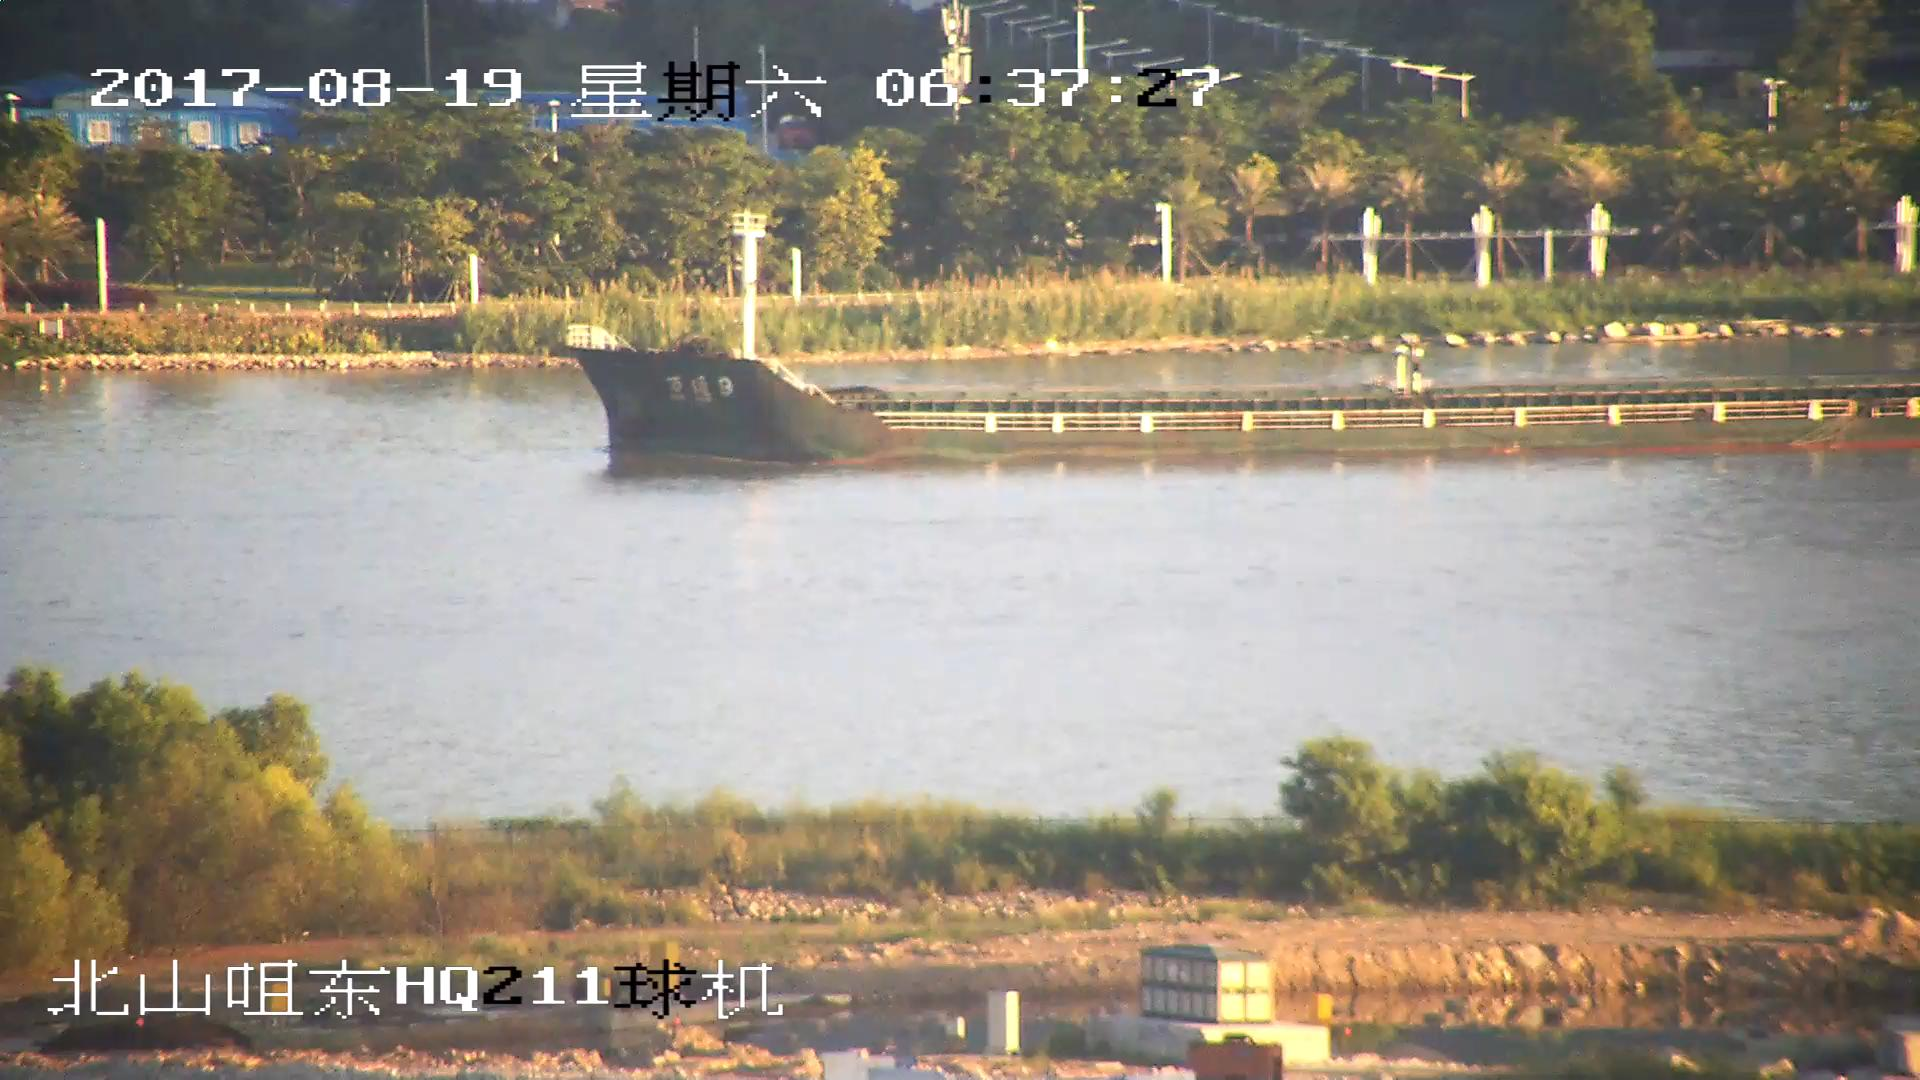general cargo ship: (568, 228, 1920, 468)
